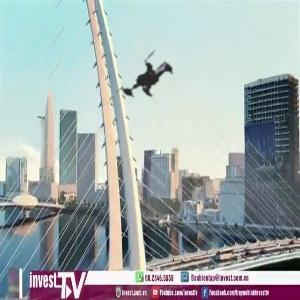drone: (99, 29, 207, 137)
